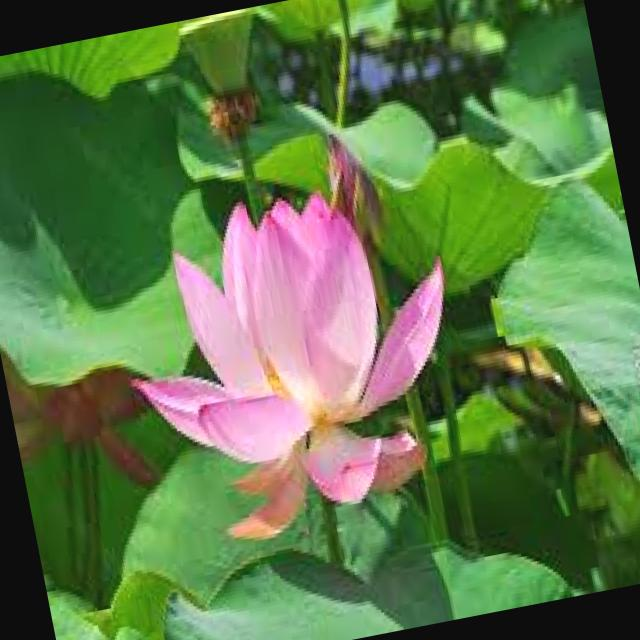lotus: (86, 168, 508, 577)
